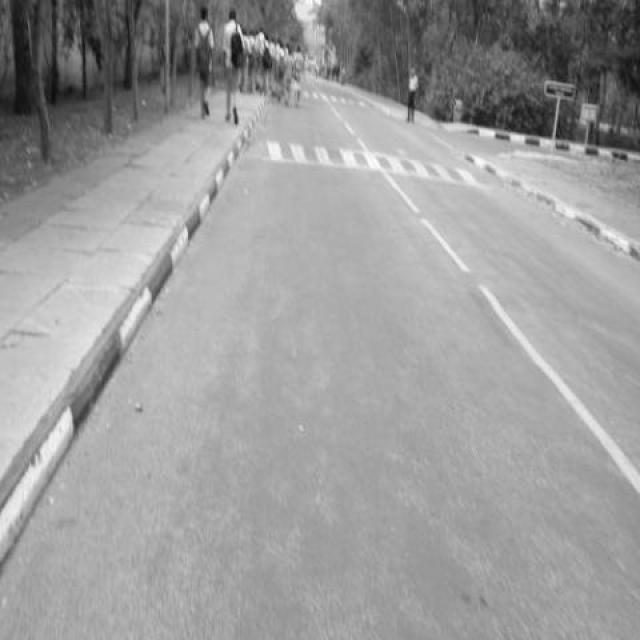Speed Bump: (243, 133, 496, 188)
